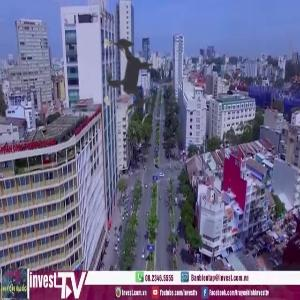drone: (68, 16, 193, 141)
